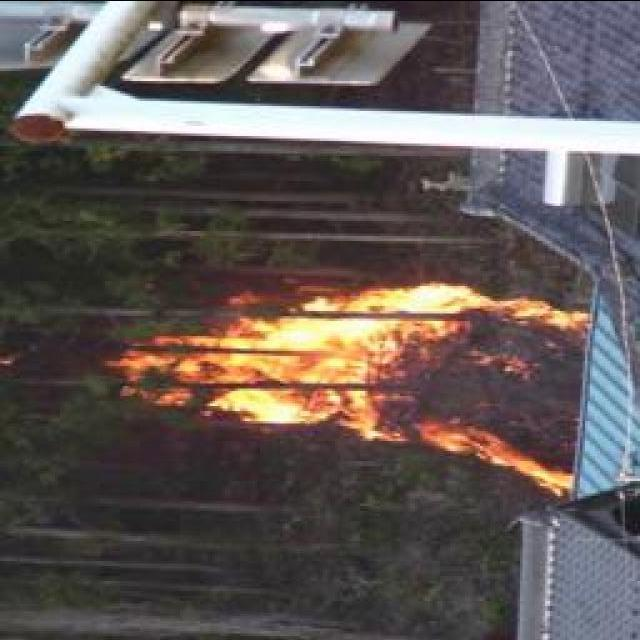Fire: (120, 280, 591, 482)
